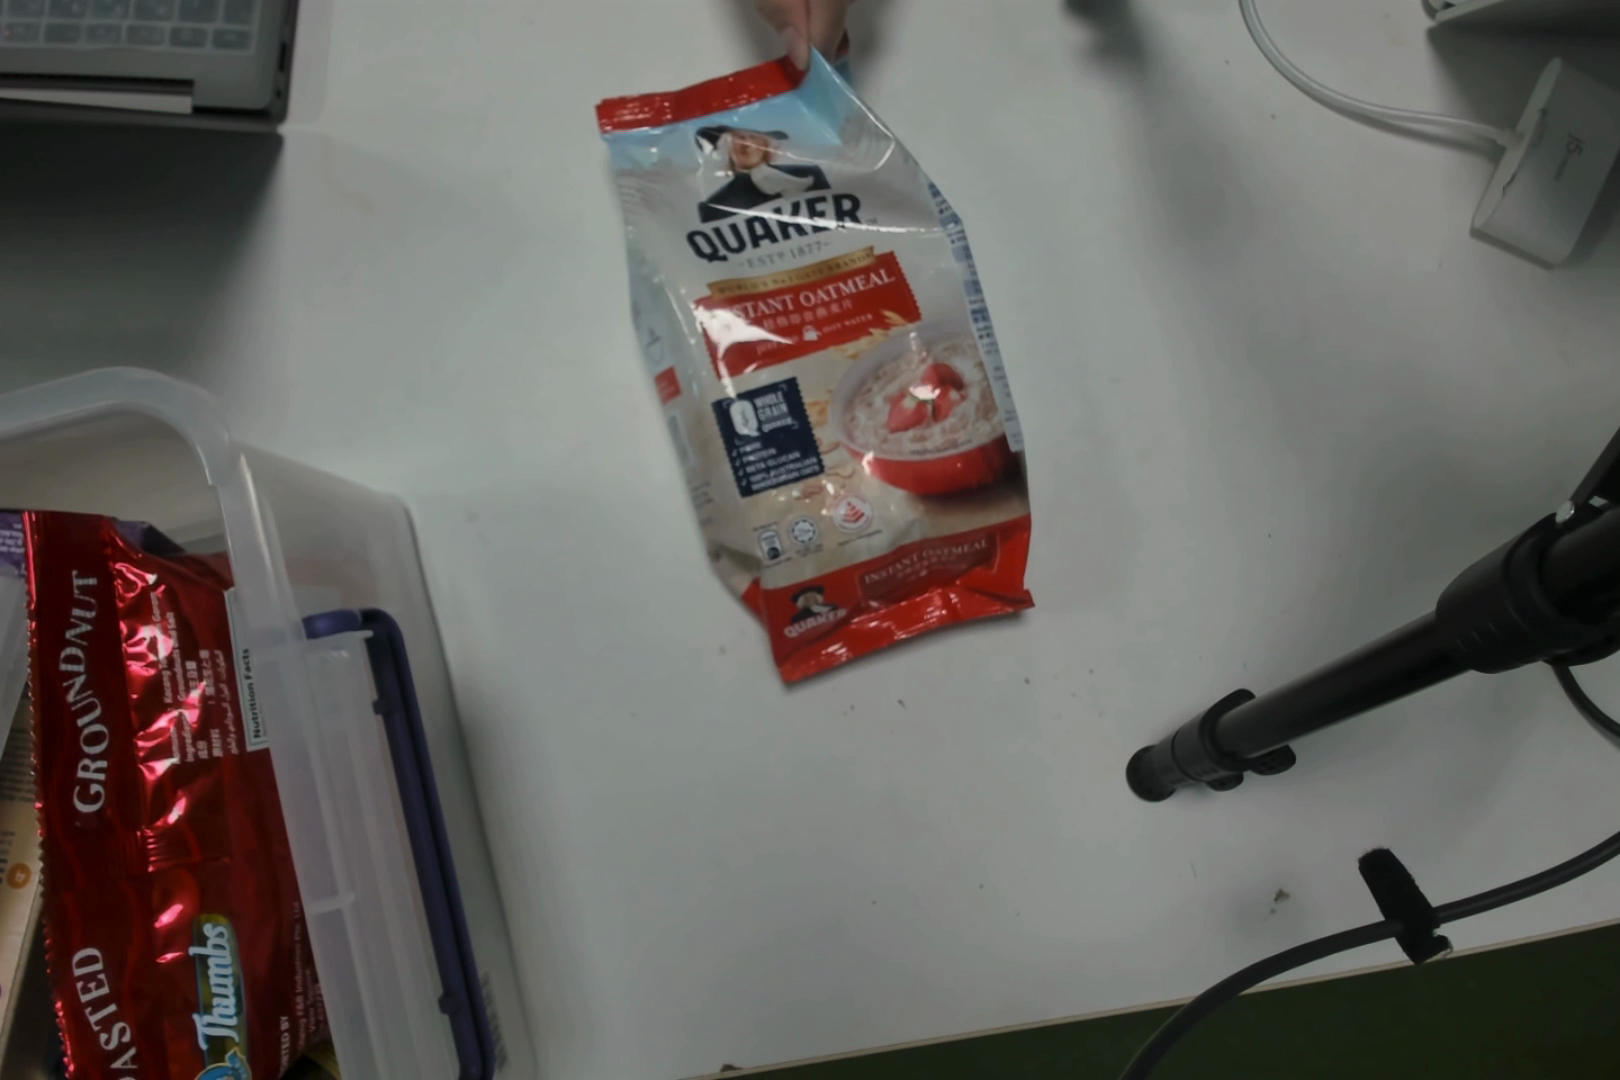RolledOatsInstantOatmeal_400-499g_Halal_Healthy: (629, 113, 1049, 662)
